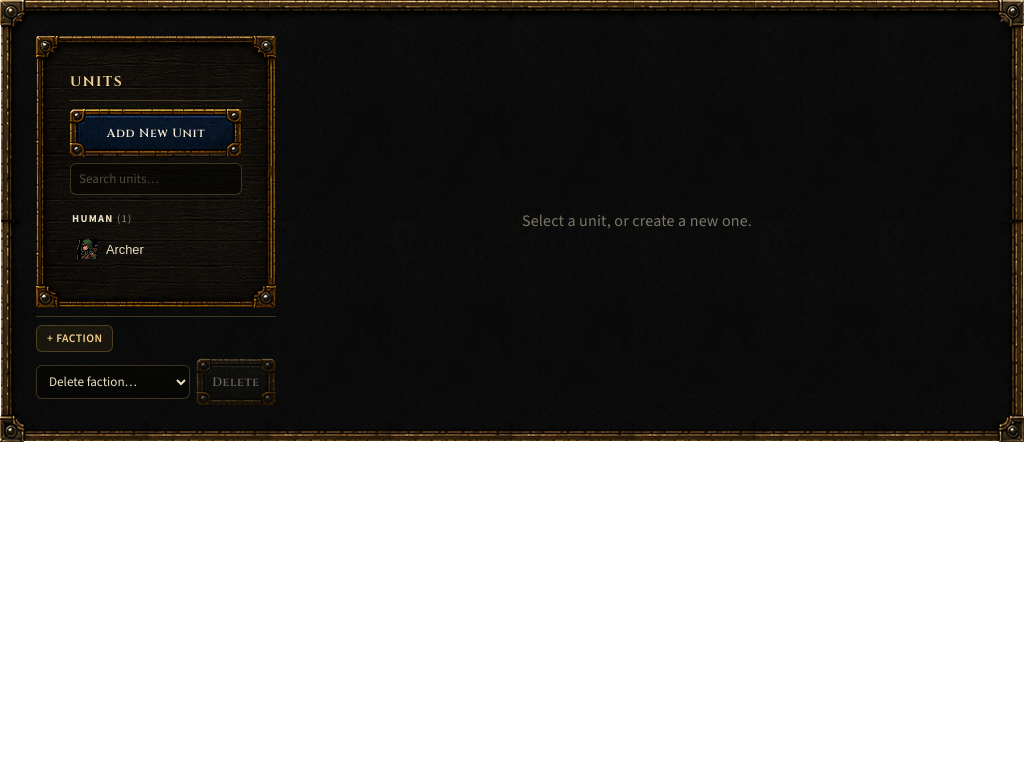
UnitTypeEditorPanel create flows (unit vs path) › Add New Unit opens a blank base-unit form (save disabled until type/faction set)
Click the button "Add New Unit": (156, 133) [70,109,242,157]
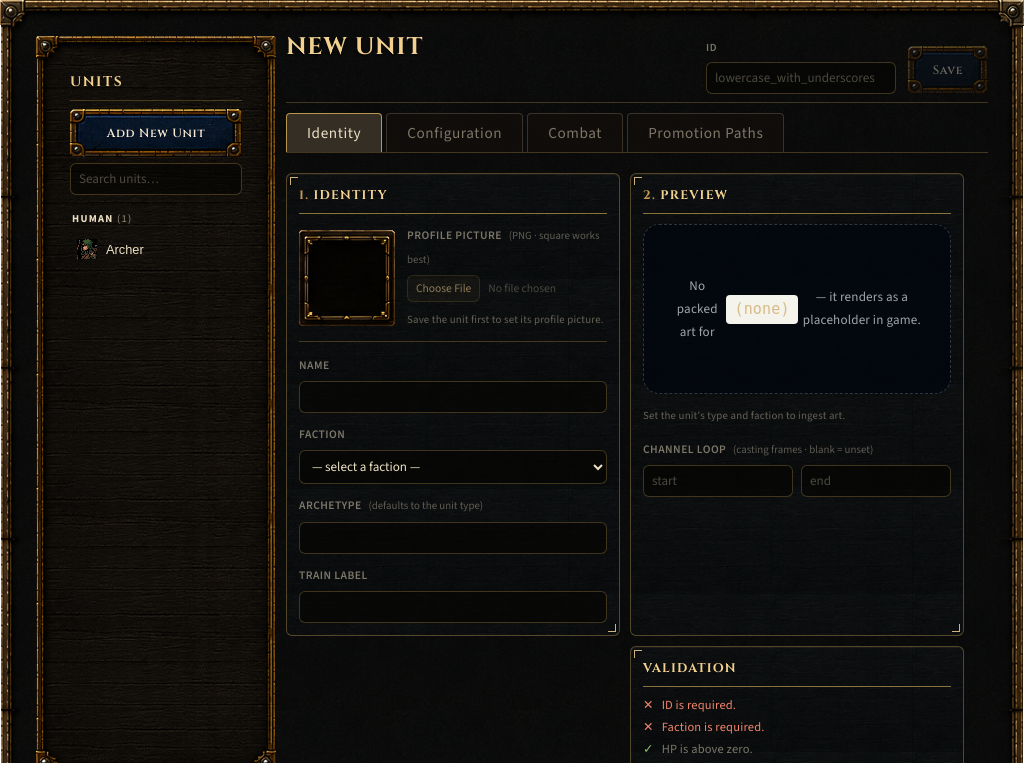
Expected: the button "Save" is disabled, [908,46,988,94]
Now the text "Preview" is shown, box [656,187,728,204]
Now the text "Identity" is shown, box [286,113,382,152]
